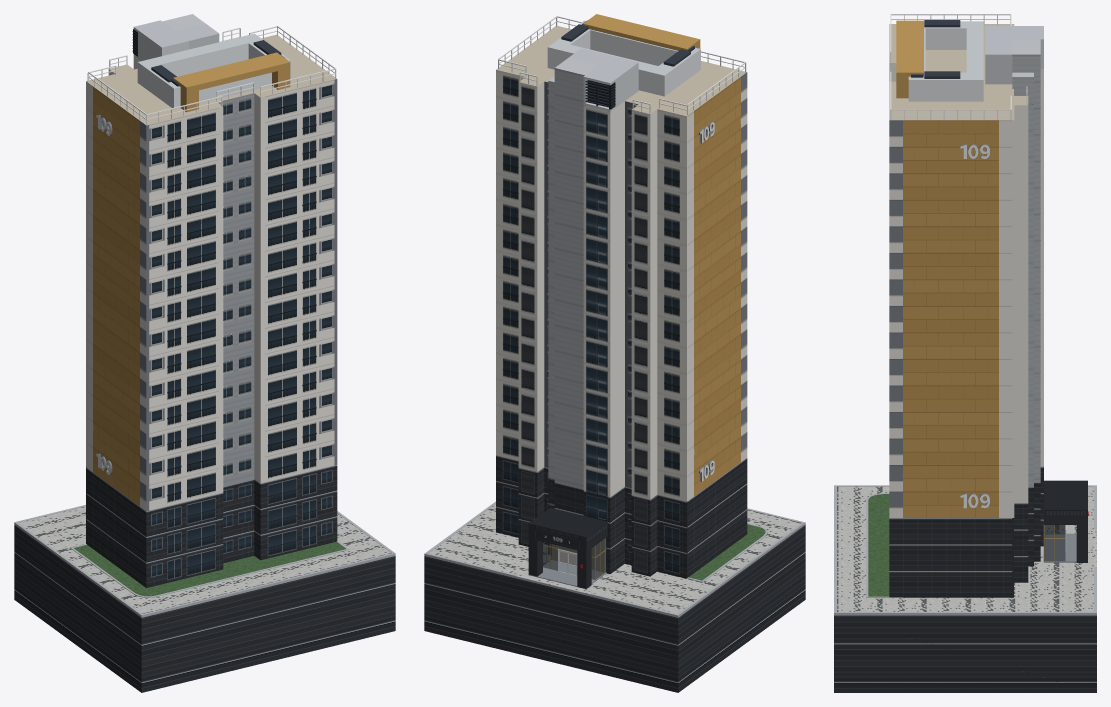
File: place_금파힐109.glb
3 renders of one model, left to right at view 1: azimuth 30°, elevation 25°; view 2: azimuth 150°, elevation 25°; view 3: azimuth 270°, elevation 25°, orthographic. The views are drawn at different scales.
Visible parts, largest first — view 1: KumhoParkHills_109, Walkway_1F_RetainingBase, Walkway_1F_BaseDeck, Garden_109_WestSouth, Walkway_1F_OuterCurb, Garden_109_Curb; view 2: KumhoParkHills_109, Walkway_1F_RetainingBase, Walkway_1F_BaseDeck, Walkway_1F_OuterCurb, Garden_109_WestSouth; view 3: KumhoParkHills_109, Walkway_1F_RetainingBase, Walkway_1F_BaseDeck, Garden_109_WestSouth, Walkway_1F_OuterCurb.
Boxes of the visible parts, x1,y1,x2,y2 form: KumhoParkHills_109: [86, 14, 337, 587]; Walkway_1F_RetainingBase: [14, 525, 395, 692]; Walkway_1F_BaseDeck: [14, 506, 395, 617]; Garden_109_WestSouth: [74, 541, 345, 596]; Walkway_1F_OuterCurb: [14, 505, 395, 616]; Garden_109_Curb: [70, 541, 349, 597]; KumhoParkHills_109: [496, 14, 747, 588]; Walkway_1F_RetainingBase: [424, 525, 805, 692]; Walkway_1F_BaseDeck: [424, 504, 805, 617]; Walkway_1F_OuterCurb: [424, 501, 805, 616]; Garden_109_WestSouth: [689, 524, 765, 580]; KumhoParkHills_109: [889, 14, 1088, 597]; Walkway_1F_RetainingBase: [834, 615, 1096, 692]; Walkway_1F_BaseDeck: [837, 486, 1096, 611]; Garden_109_WestSouth: [868, 494, 903, 597]; Walkway_1F_OuterCurb: [834, 485, 1096, 615].
Bounding box in the file's own units: 27.4 × 58.6 × 23.8.
Materials: 84 (39 with a texture image).
